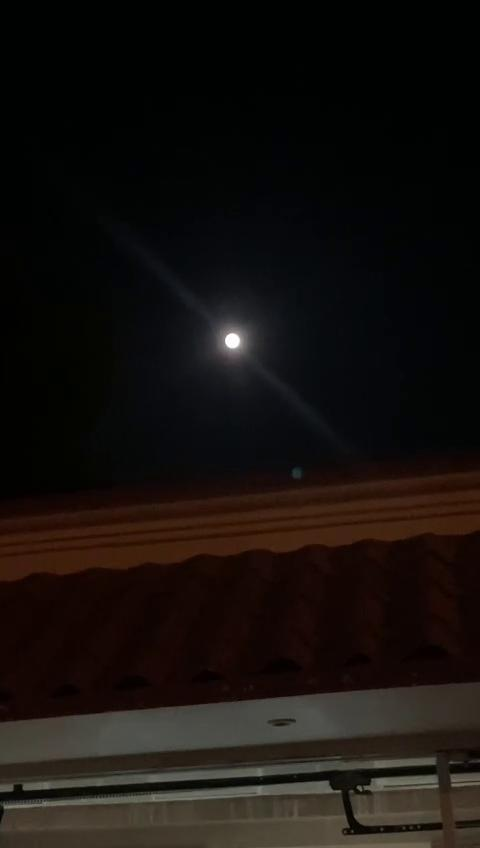moon: (216, 334, 236, 353)
